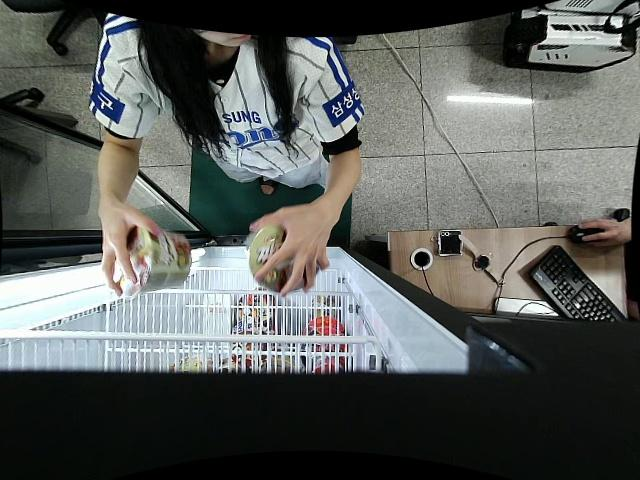00_hand: (249, 203, 330, 298), (97, 197, 162, 296)
03_chapagetti_L: (111, 226, 191, 298), (245, 225, 307, 295)
